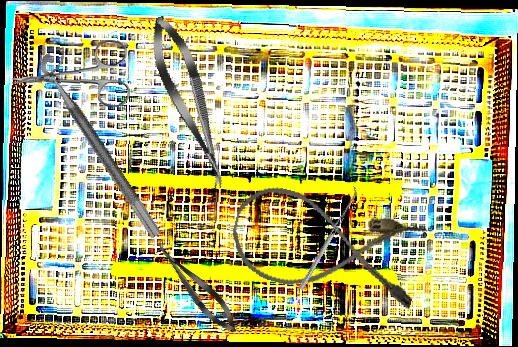Cannula: (223, 179, 431, 315)
Fixation Ring: (34, 44, 178, 240)
Iris Scissors: (9, 38, 131, 113)
Micro Scissor: (141, 11, 238, 194), (149, 234, 244, 340)
Spatula Surgical: (294, 185, 361, 291)
